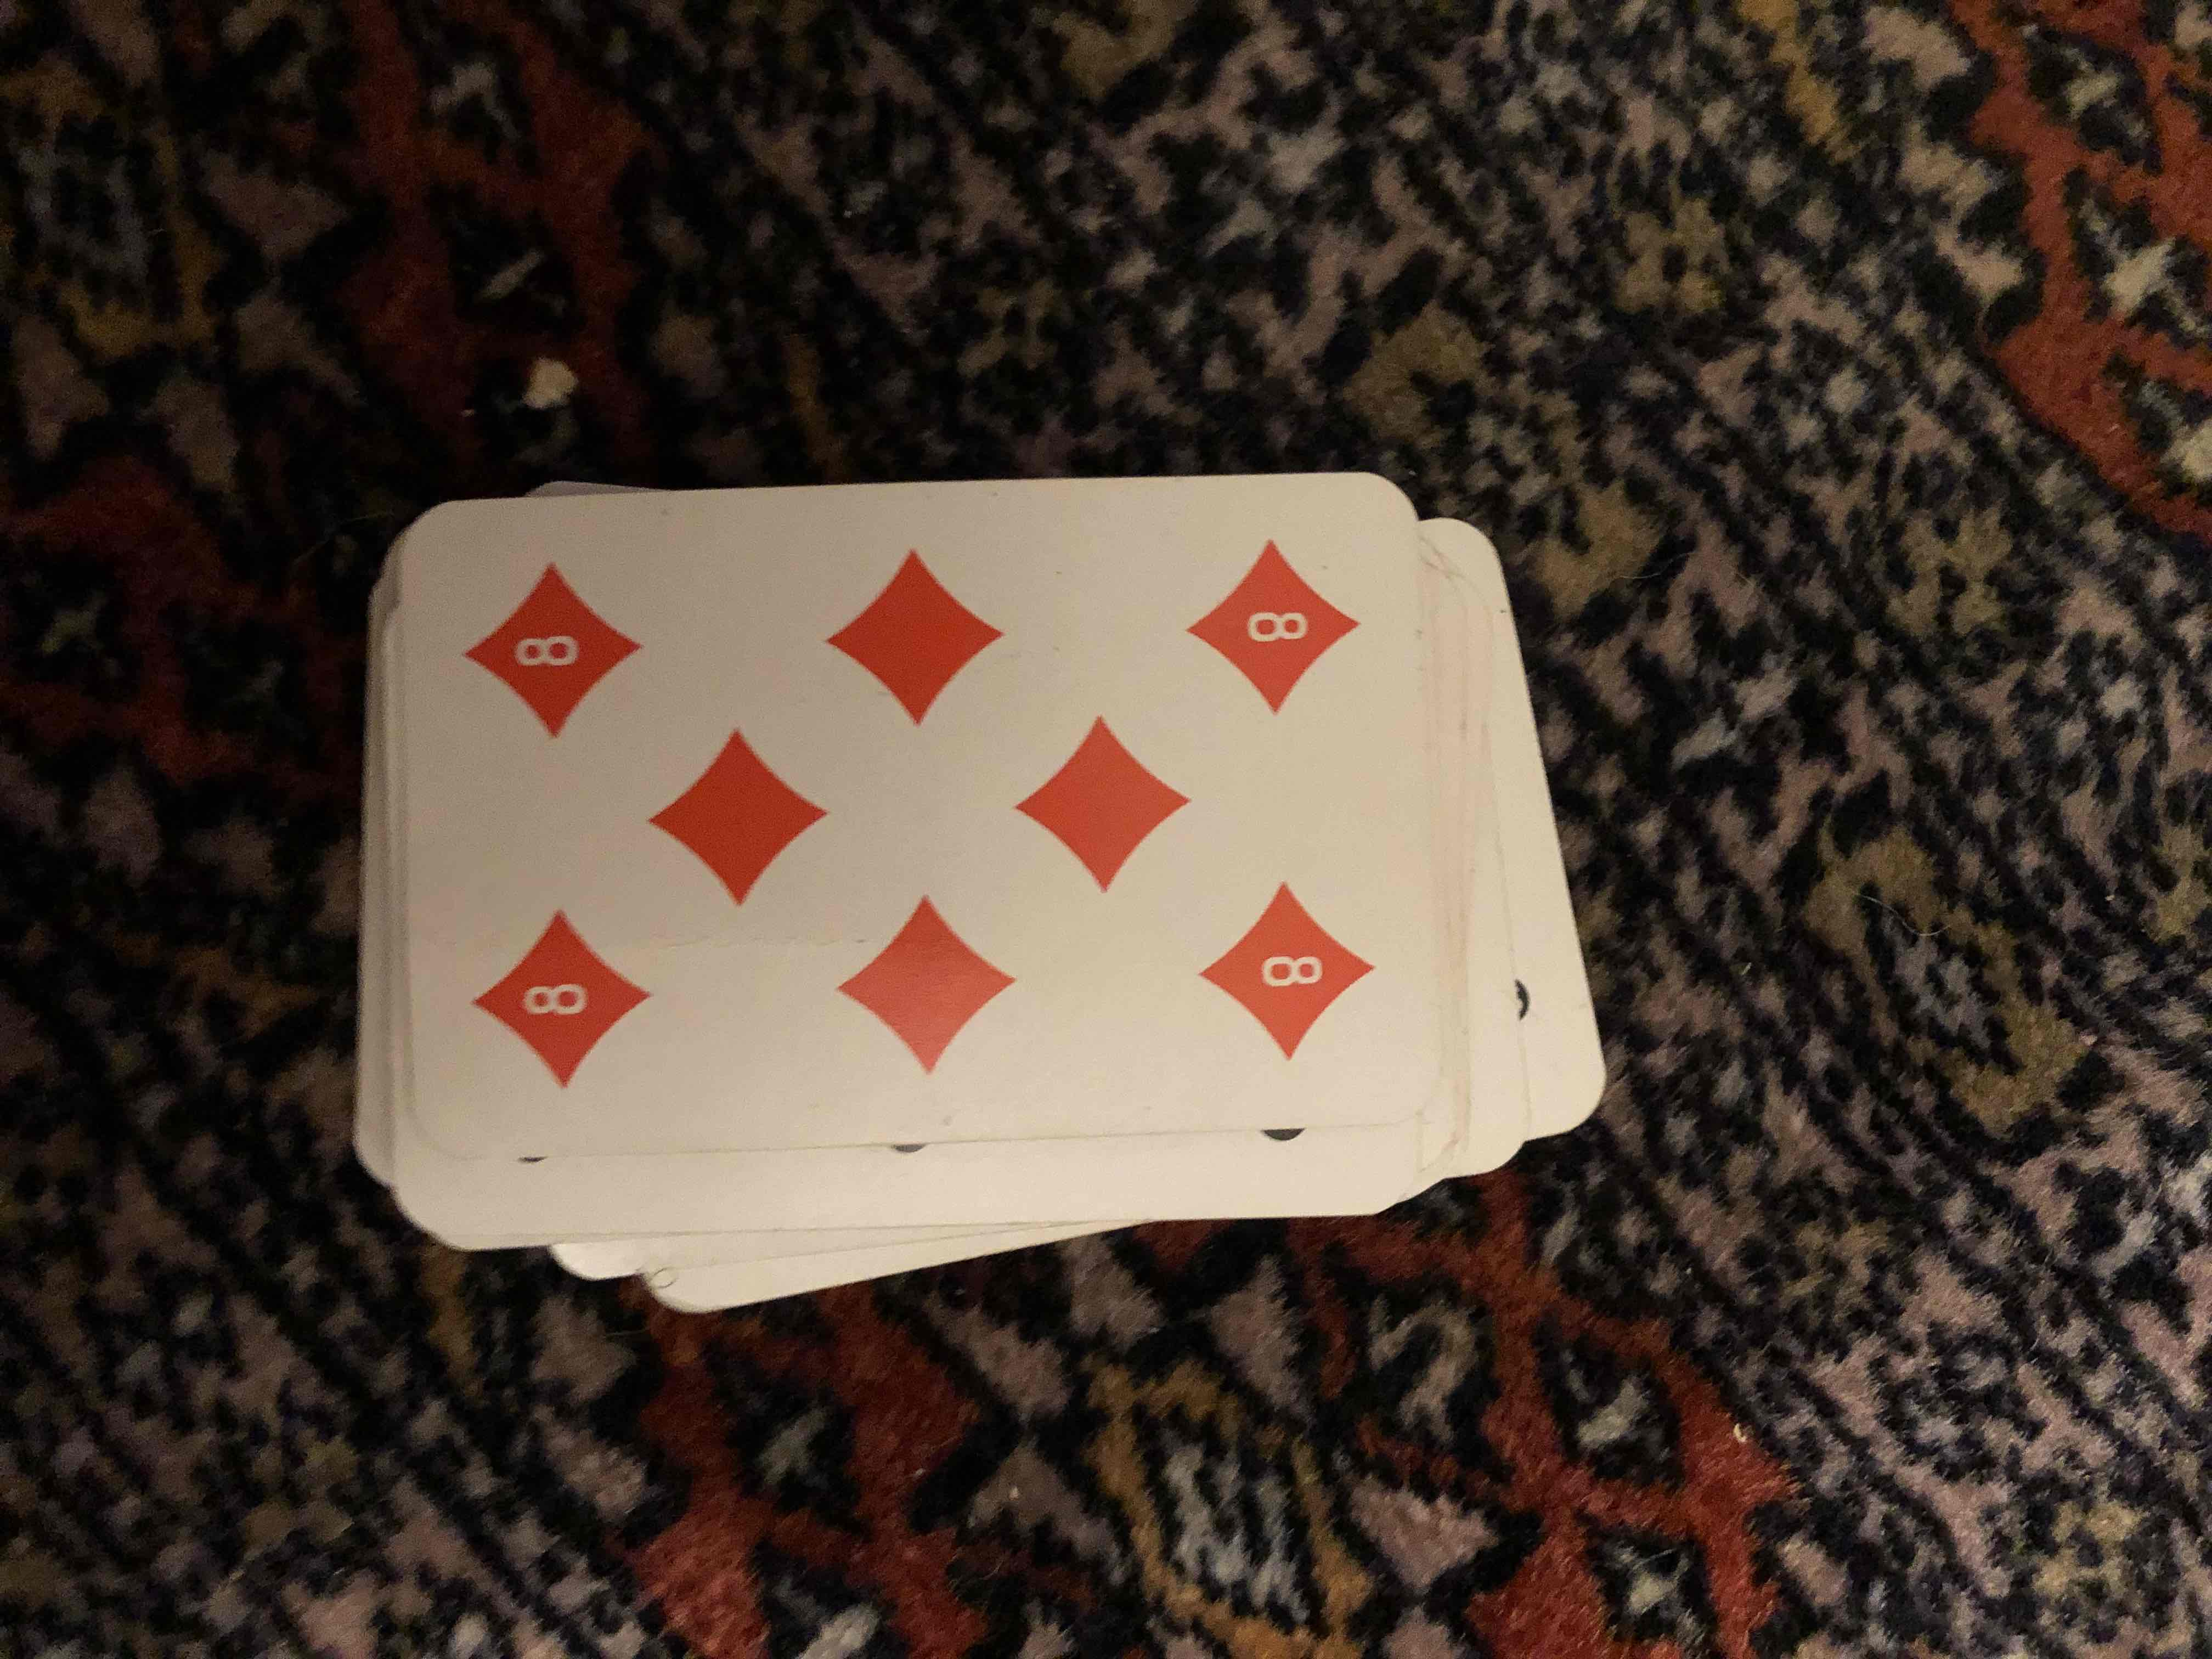diamond8: (418, 474, 1430, 1134)
